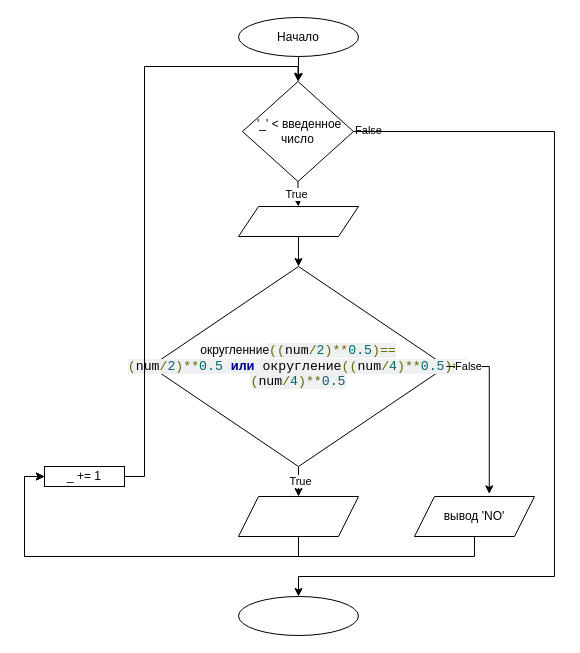
Image size: 580x653. Some labels were removed from this diagram. Each missing label, with the centre of its shape:
"ввод num" goes at (x=298, y=221).
"вывод 'YES'" goes at (x=298, y=516).
"Конец" goes at (x=298, y=616).
